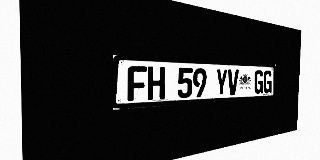5: (178, 67, 193, 98)
9: (193, 68, 207, 97)
F: (127, 66, 147, 101)
G: (254, 70, 264, 94), (263, 70, 272, 93)
H: (147, 66, 165, 100)
V: (227, 69, 239, 95)
Y: (215, 69, 228, 96)
